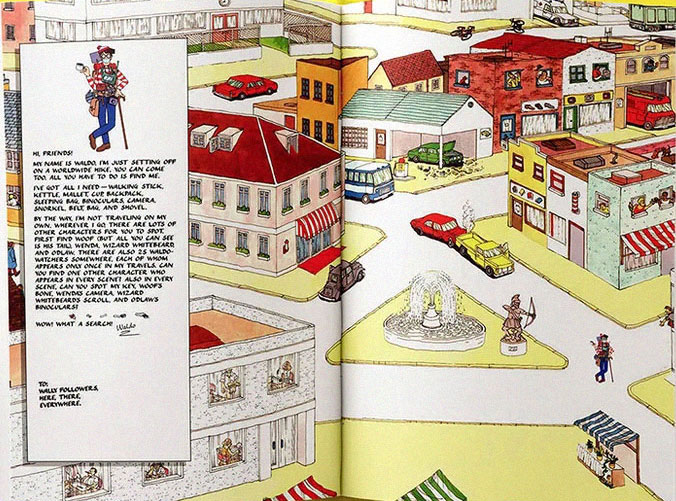Waldo: (75, 44, 130, 153), (594, 331, 613, 380)
